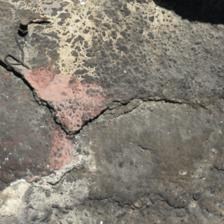Crack: (3, 70, 72, 142), (32, 112, 111, 166)
